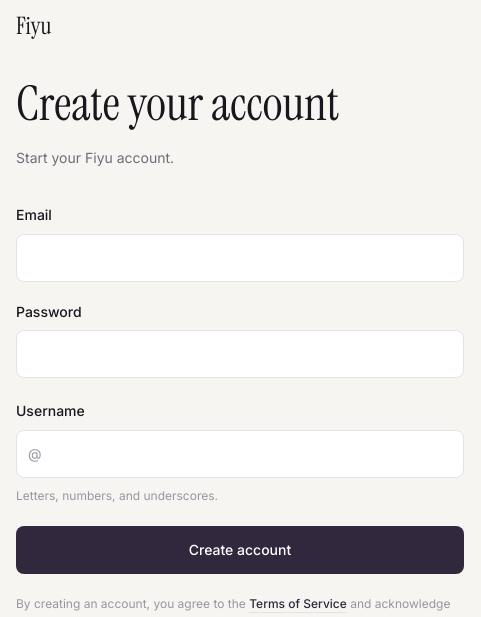
Test case: AuthPage connectivity failures › shows classified signup request_timeout copy and preserves the form
The width and height of the screenshot is (481, 617).
Type "person@example.com" into the field labelled "Email".
click(240, 258); type("person@example.com")  # box [16, 234, 464, 282]
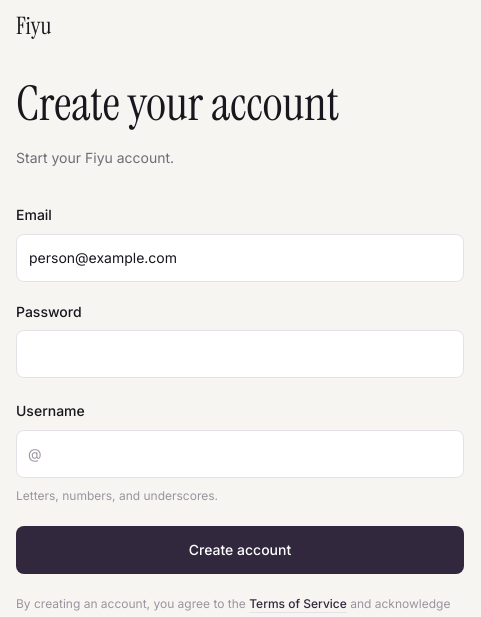
Type "secret-password" into the password field labelled "Password".
click(240, 354); type("secret-password")  # box [16, 330, 464, 378]
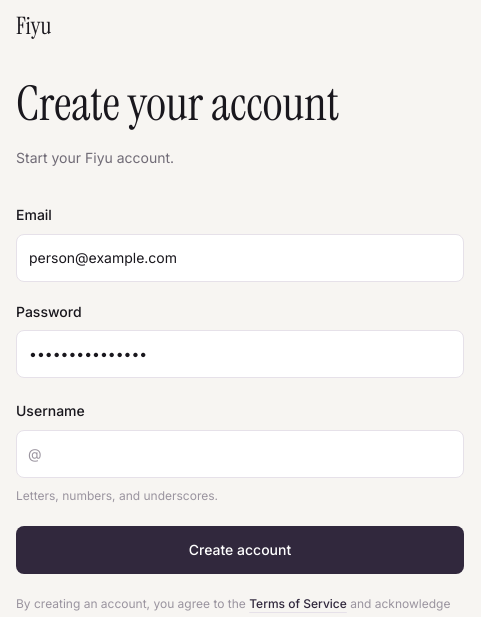
Type "person" into the field labelled "Username".
click(240, 454); type("person")  # box [16, 430, 464, 478]
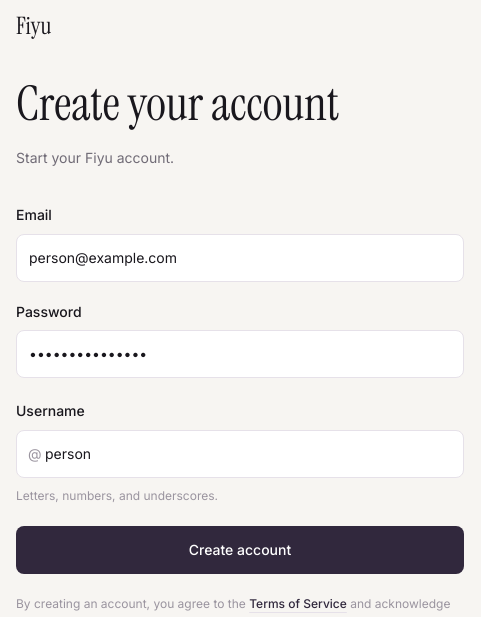
Click the button "Create account".
click(240, 550)  # box [16, 526, 464, 574]
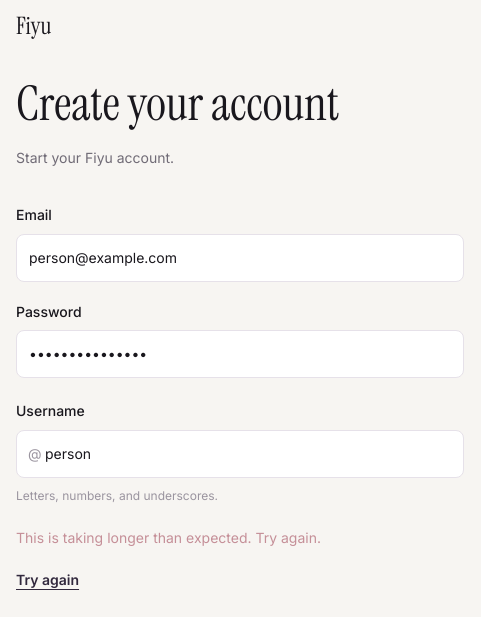
Check: the message shows "taking longer than expected", box [16, 529, 321, 546]
